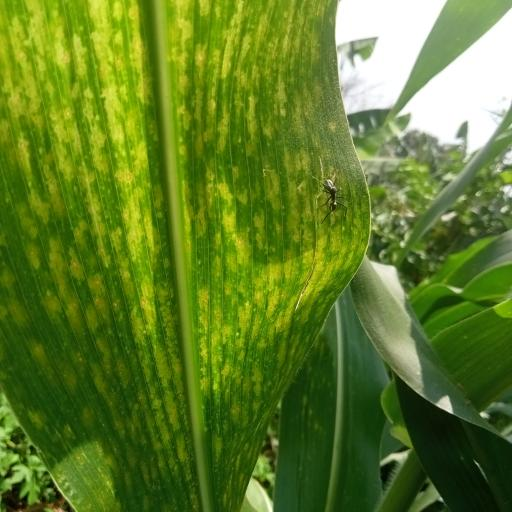Corn_Brown_Spots: (10, 5, 358, 512)
